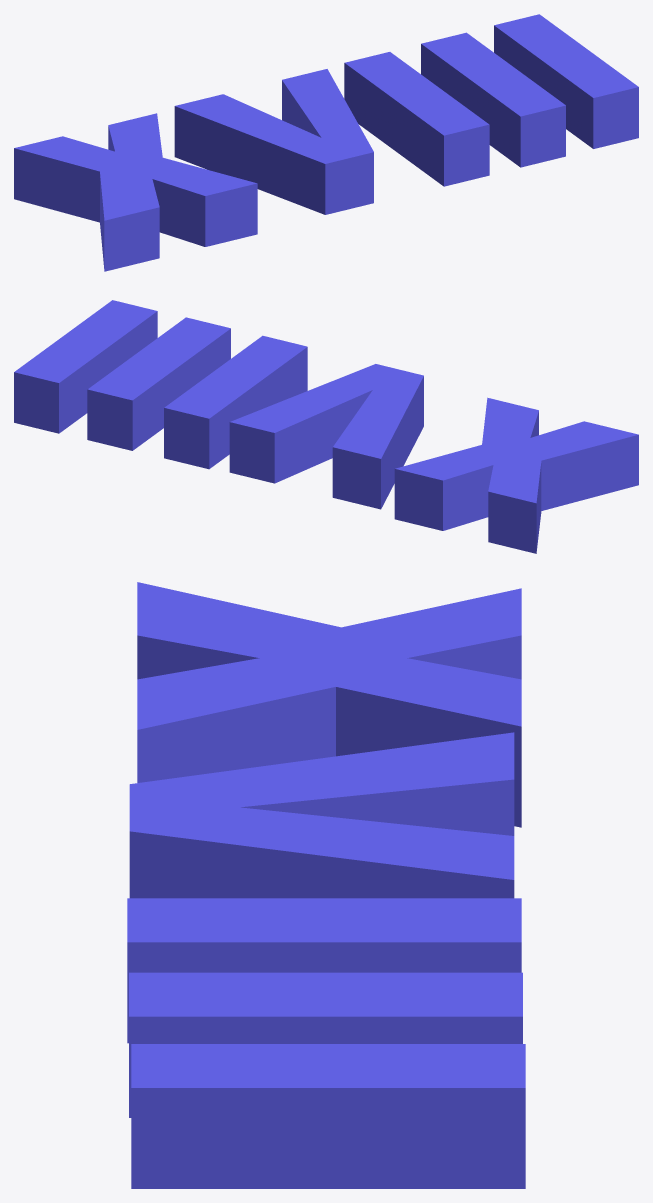
3 views of the same model, one above another, from view 1: azimuth 30°, elevation 25°; view 2: azimuth 150°, elevation 25°; view 3: azimuth 270°, elevation 25° (orthographic). The views are drawn at different scales.
Visible parts, largest first — view 1: X1, V_1_1, I_2_1, I_2_2, I_2_3; view 2: X1, V_1_1, I_2_2, I_2_1, I_2_3; view 3: X1, I_2_3, V_1_1, I_2_1, I_2_2.
Part boxes in pixels (bbox=[...]): X1: bbox=[14, 113, 257, 271]; V_1_1: bbox=[174, 69, 373, 214]; I_2_1: bbox=[344, 52, 489, 186]; I_2_2: bbox=[421, 32, 565, 167]; I_2_3: bbox=[494, 14, 638, 148]; X1: bbox=[394, 397, 638, 553]; V_1_1: bbox=[229, 364, 423, 509]; I_2_2: bbox=[87, 317, 230, 450]; I_2_1: bbox=[164, 335, 307, 469]; I_2_3: bbox=[14, 300, 157, 433]; X1: bbox=[137, 582, 521, 827]; I_2_3: bbox=[131, 1044, 525, 1188]; V_1_1: bbox=[129, 732, 514, 898]; I_2_1: bbox=[127, 898, 521, 1043]; I_2_2: bbox=[129, 972, 522, 1117].
Bounding box in the file's own units: 1.64 × 0.1639 × 0.5357.
